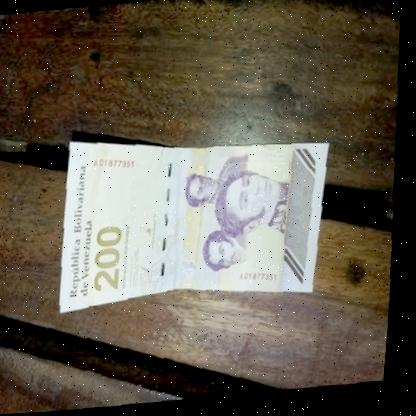two_hundred-front-vef: (60, 127, 336, 313)
